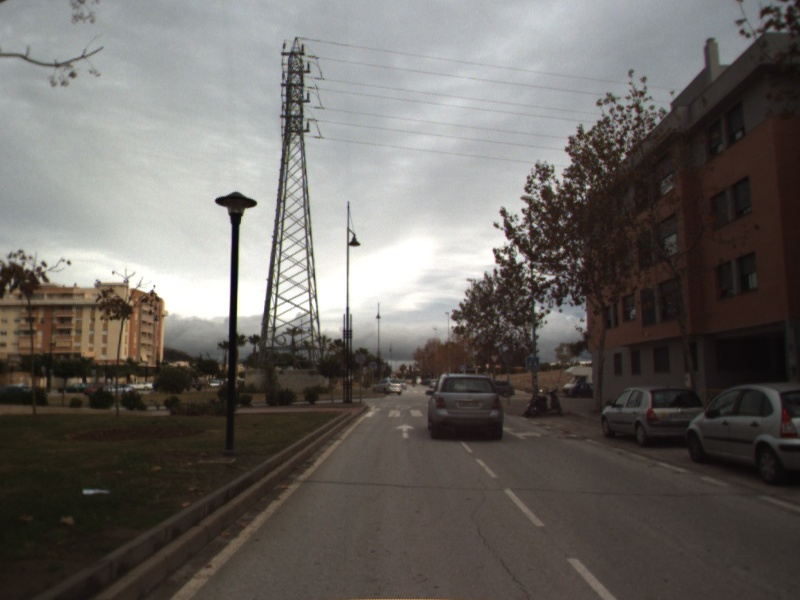STRAIGHT: (394, 422, 417, 440)
STRAIGHT_RIGHT: (502, 425, 542, 441)
